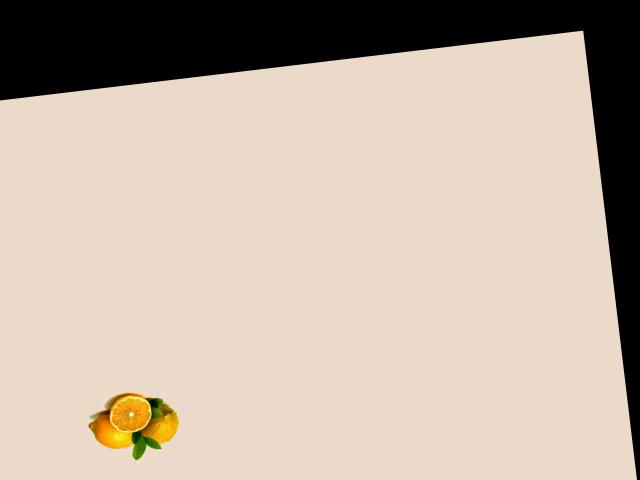lemon: (132, 398, 184, 449)
